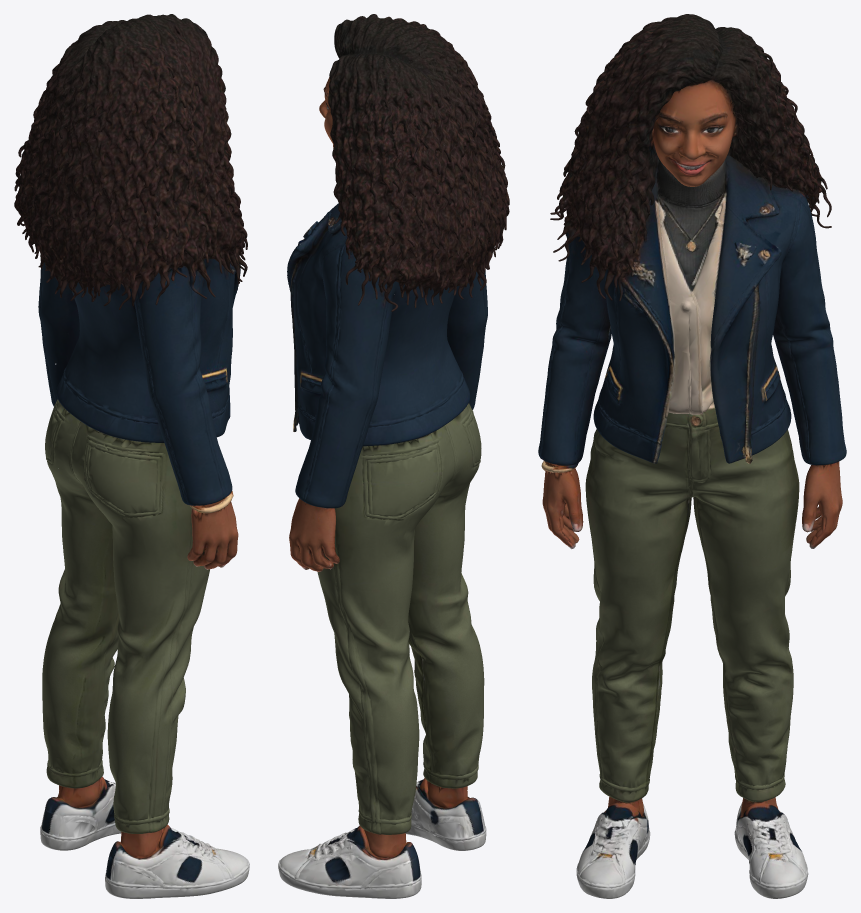
The model's file is casual_outfit_optimized.glb.
3 views of the same model, side by side, from view 1: azimuth 30°, elevation 25°; view 2: azimuth 150°, elevation 25°; view 3: azimuth 270°, elevation 25° (orthographic).
Parts seen in each view (by area): view 1: tripo_node_cea50fbe-5ff9-4ed6-8186-29f7b1c35d03; view 2: tripo_node_cea50fbe-5ff9-4ed6-8186-29f7b1c35d03; view 3: tripo_node_cea50fbe-5ff9-4ed6-8186-29f7b1c35d03.
Boxes of the visible parts, x1=… form: tripo_node_cea50fbe-5ff9-4ed6-8186-29f7b1c35d03: x1=14, y1=14, x2=249, y2=898; tripo_node_cea50fbe-5ff9-4ed6-8186-29f7b1c35d03: x1=278, y1=14, x2=509, y2=898; tripo_node_cea50fbe-5ff9-4ed6-8186-29f7b1c35d03: x1=538, y1=14, x2=846, y2=898.
Bounding box in the file's own units: 0.2281 × 0.9795 × 0.3225.
1 material, 1 textured.
